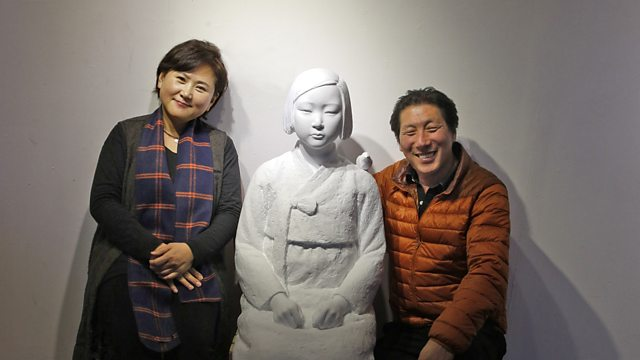person: (72, 36, 247, 360), (367, 83, 515, 360)
person-like: (227, 66, 389, 360)
